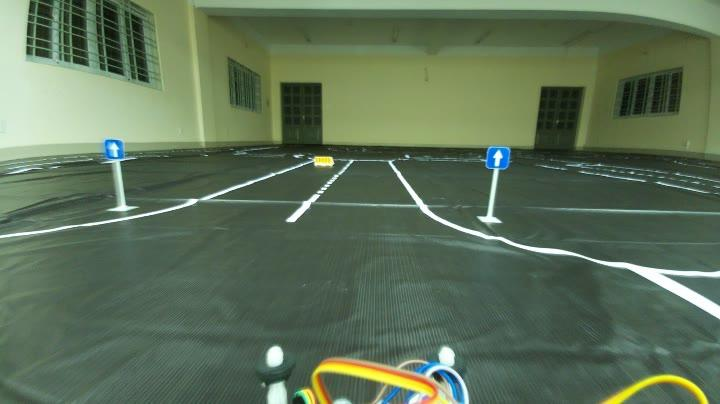onewayroad: (482, 140, 510, 176), (101, 136, 135, 160)
roadblock: (310, 156, 338, 168)
